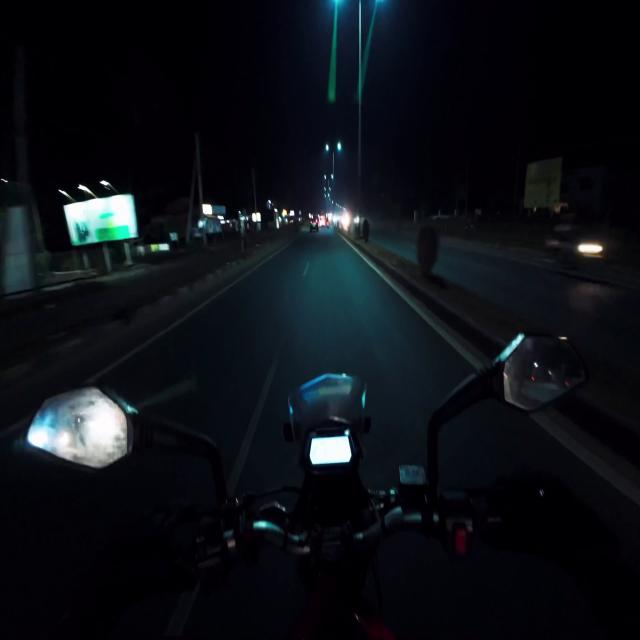car: (310, 217, 318, 231)
motorcycle: (27, 334, 585, 638)
